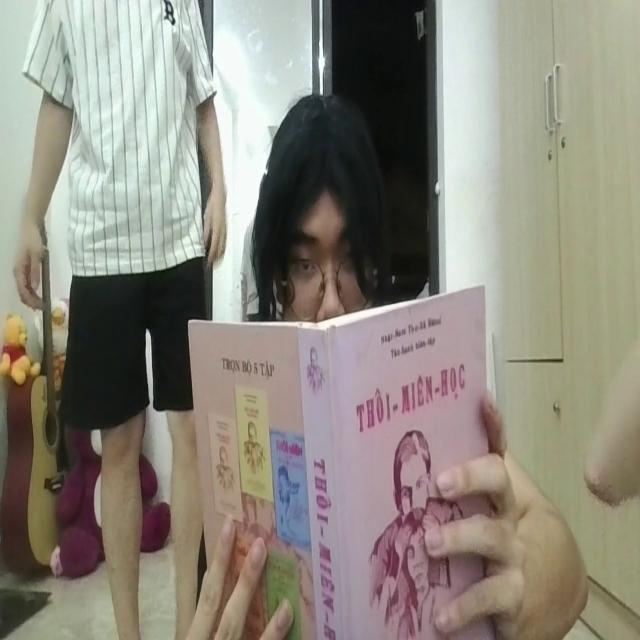book: (182, 278, 507, 640)
extra_person: (18, 2, 224, 640)
student: (249, 98, 392, 324)
